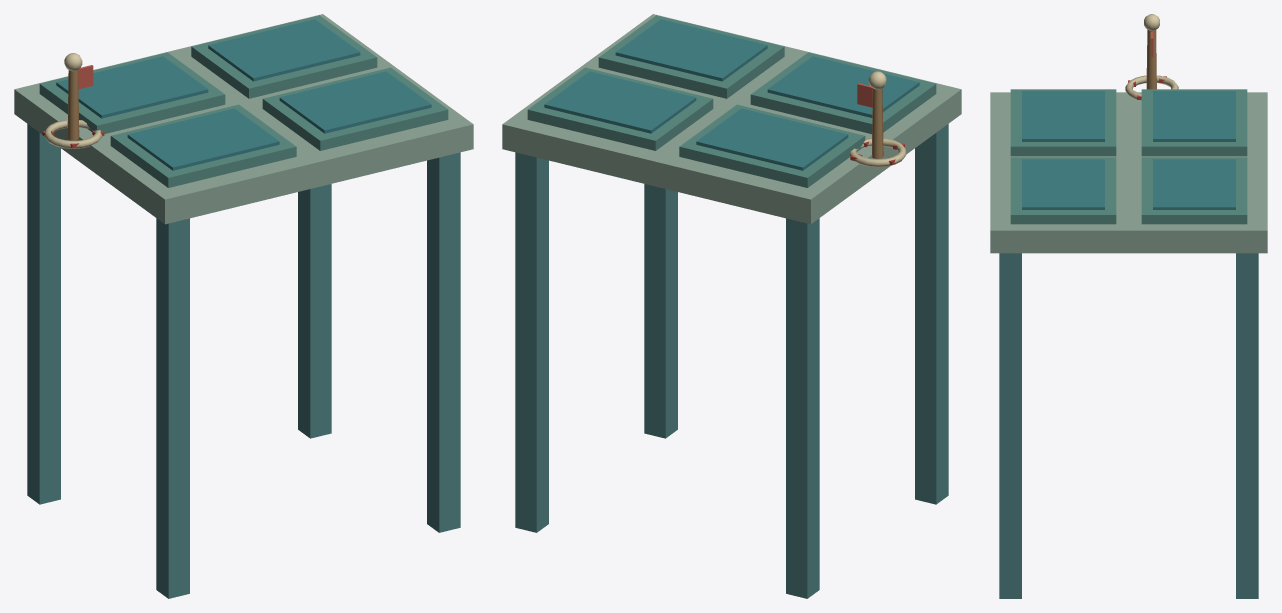
The model's file is unit_01.glb.
The picture shows the model from 3 angles, left to right: view 1: azimuth 30°, elevation 25°; view 2: azimuth 150°, elevation 25°; view 3: azimuth 270°, elevation 25°; orthographic projection. The views are drawn at different scales.
Parts seen in each view (by area): view 1: unit_01; view 2: unit_01; view 3: unit_01.
Part boxes in pixels (x1,y1,x2,y2): unit_01: [14, 14, 473, 598]; unit_01: [502, 14, 961, 598]; unit_01: [990, 14, 1267, 598].
Size of the model in its own units: 7.12 by 9.81 by 5.5.
